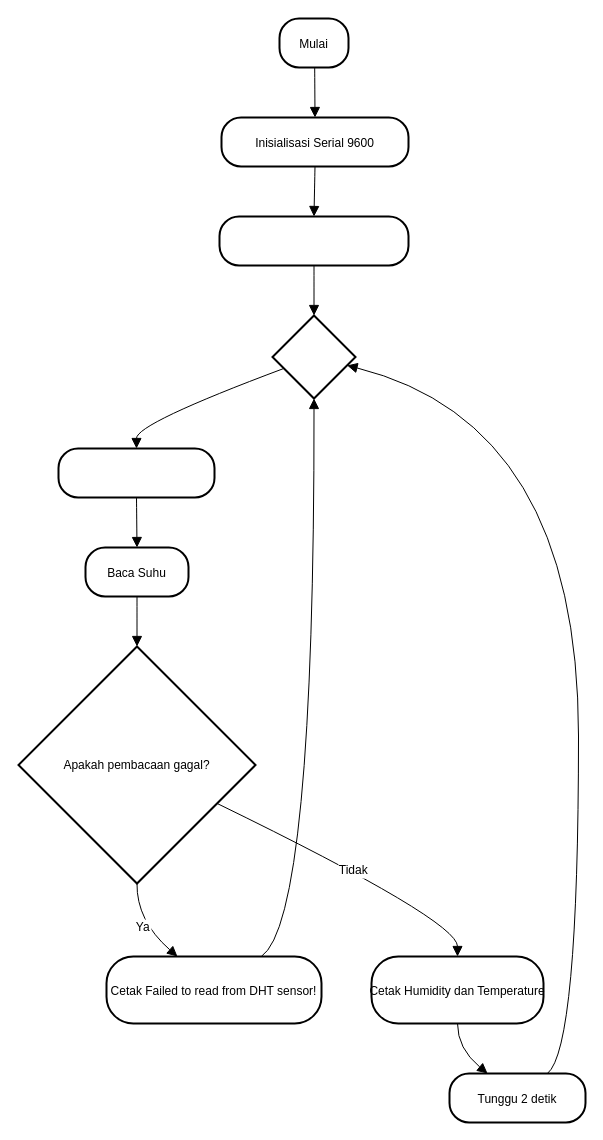
This 603x1140 diagram has some shape labels left out. Each missing label, with the box of its shape:
Baca Kelembaban: (57, 447, 215, 498)
Inisialisasi Sensor DHT: (218, 215, 409, 266)
Loop: (271, 314, 356, 399)
